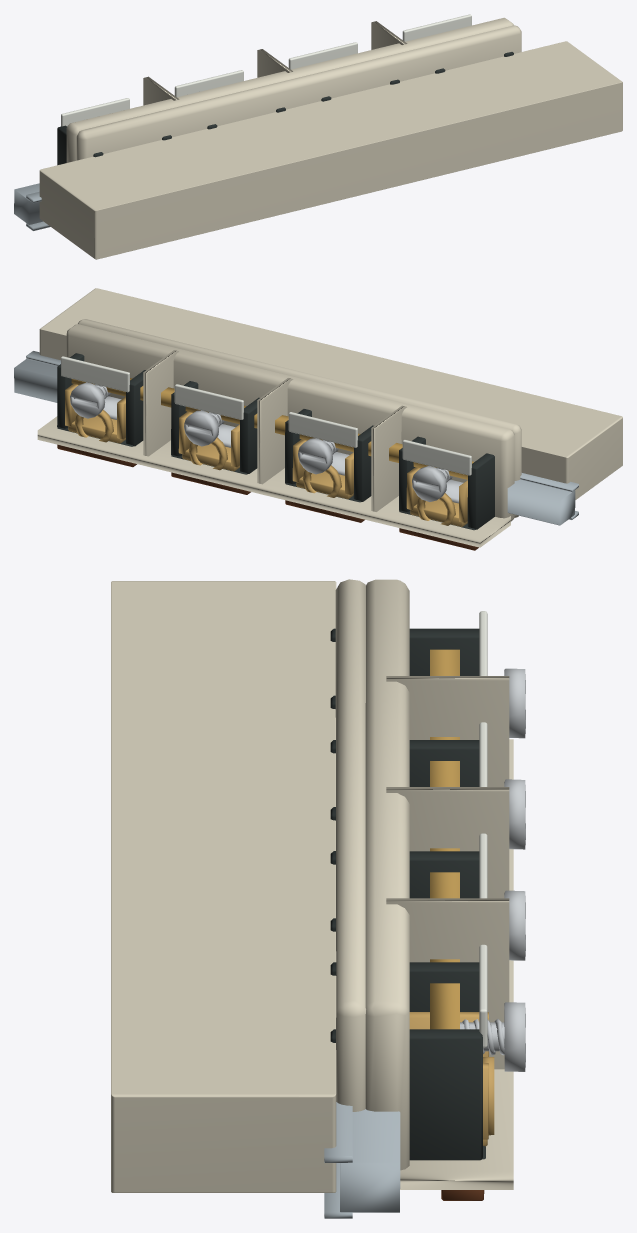
Rendered from terminal_default.low.glb.
3 renders of one model, top to bottom at view 1: azimuth 30°, elevation 25°; view 2: azimuth 150°, elevation 25°; view 3: azimuth 270°, elevation 25°, orthographic. The views are drawn at different scales.
Parts seen in each view (by area): view 1: part:body, part:terminals · Original 5a609f27, part:mounting · Original 2a8198d3, Moulded terminal legend pad.003, Moulded terminal legend pad.002, Moulded terminal legend pad.001, Moulded terminal legend pad, detail:terminal-clamp:1 · Detail moulded engineering polymer; view 2: part:terminals · Original 5a609f27, part:body, part:mounting · Original 2a8198d3, detail:terminal-clamp:1 · Detail moulded engineering polymer, detail:terminal-clamp:4 · Detail moulded engineering polymer, detail:terminal-clamp:2 · Detail moulded engineering polymer, detail:terminal-clamp:3 · Detail moulded engineering polymer, detail:terminal-clamp:2 · Detail machined brass, detail:terminal-clamp:1 · Detail machined brass, detail:terminal-clamp:3 · Detail machined brass, detail:terminal-clamp:4 · Detail machined brass, part:terminals.001 (+12 smaller); view 3: part:body, part:terminals · Original 5a609f27, detail:terminal-clamp:4 · Detail moulded engineering polymer, part:mounting · Original 2a8198d3, part:terminals.001, detail:terminal-clamp:1 · Detail moulded engineering polymer, detail:terminal-clamp:3 · Detail moulded engineering polymer, detail:terminal-clamp:2 · Detail moulded engineering polymer, detail:terminal-clamp:4 · Detail zinc plated fixing, detail:terminal-clamp:4 · Detail machined brass, detail:terminal-clamp:2 · Detail zinc plated fixing, detail:terminal-clamp:3 · Detail zinc plated fixing (+2 smaller).
Part boxes in pixels (x1,y1,x2,y2): part:body: (39,41,622,259); part:terminals · Original 5a609f27: (66,17,521,162); part:mounting · Original 2a8198d3: (14,183,50,230); Moulded terminal legend pad.003: (402,14,471,41); Moulded terminal legend pad.002: (288,42,357,69); Moulded terminal legend pad.001: (174,70,243,97); Moulded terminal legend pad: (61,98,129,126); detail:terminal-clamp:1 · Detail moulded engineering polymer: (57,125,171,165); part:terminals · Original 5a609f27: (37,319,521,547); part:body: (39,288,622,499); part:mounting · Original 2a8198d3: (14,351,578,525); detail:terminal-clamp:1 · Detail moulded engineering polymer: (399,436,494,530); detail:terminal-clamp:4 · Detail moulded engineering polymer: (57,353,145,446); detail:terminal-clamp:2 · Detail moulded engineering polymer: (285,409,373,502); detail:terminal-clamp:3 · Detail moulded engineering polymer: (171,381,259,474); detail:terminal-clamp:2 · Detail machined brass: (292,439,353,499); detail:terminal-clamp:1 · Detail machined brass: (406,467,467,526); detail:terminal-clamp:3 · Detail machined brass: (178,411,239,471); detail:terminal-clamp:4 · Detail machined brass: (65,384,125,443); part:terminals.001: (71,378,473,479); part:body: (111,581,336,1192); part:terminals · Original 5a609f27: (335,579,513,1189); detail:terminal-clamp:4 · Detail moulded engineering polymer: (330,962,485,1160); part:mounting · Original 2a8198d3: (324,1102,400,1218); part:terminals.001: (430,649,459,1029); detail:terminal-clamp:1 · Detail moulded engineering polymer: (330,628,479,708); detail:terminal-clamp:3 · Detail moulded engineering polymer: (330,851,479,931); detail:terminal-clamp:2 · Detail moulded engineering polymer: (330,740,479,820); detail:terminal-clamp:4 · Detail zinc plated fixing: (460,1002,525,1071); detail:terminal-clamp:4 · Detail machined brass: (409,1012,494,1146); detail:terminal-clamp:2 · Detail zinc plated fixing: (504,779,525,849); detail:terminal-clamp:3 · Detail zinc plated fixing: (504,890,525,960).
Size of the model in its own units: 0.922 by 0.1677 by 0.3033.
